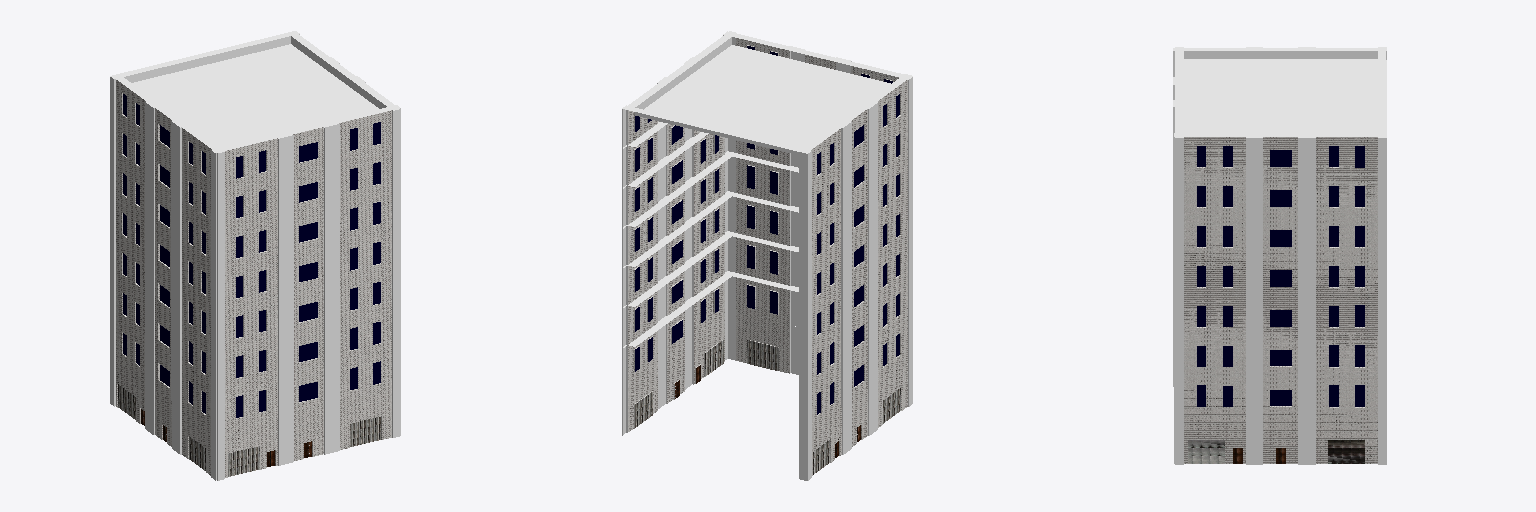
3 views of the same model, side by side, from view 1: azimuth 30°, elevation 25°; view 2: azimuth 150°, elevation 25°; view 3: azimuth 270°, elevation 25° (orthographic).
Parts seen in each view (by area): view 1: NormalBuilding2; view 2: NormalBuilding2; view 3: NormalBuilding2.
Boxes of the visible parts, <box> form: NormalBuilding2: <box>110,31,400,480</box>; NormalBuilding2: <box>622,31,912,480</box>; NormalBuilding2: <box>1173,47,1386,464</box>.
Size of the model in its own units: 24.36 by 41 by 24.19.
Materials: 6 (3 with a texture image).